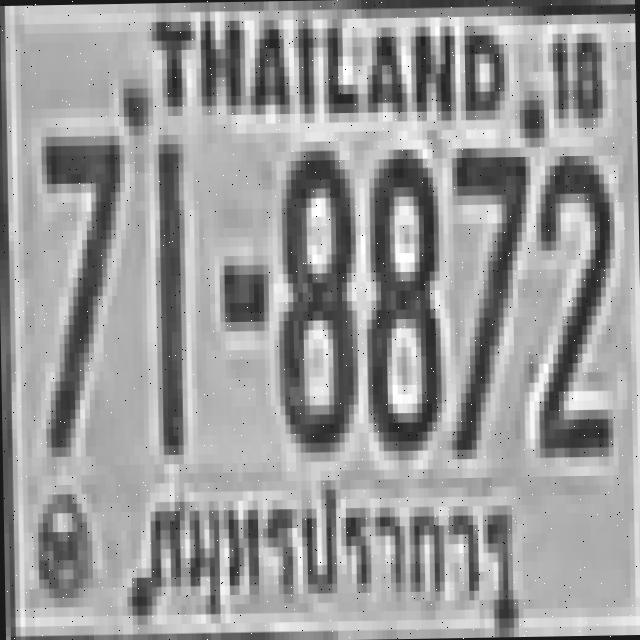1: (148, 134, 183, 445)
2: (530, 146, 612, 448)
7: (38, 126, 122, 447), (446, 138, 530, 450)
8: (270, 141, 354, 443), (360, 140, 440, 442)
SamutPrakan: (141, 477, 520, 638)
